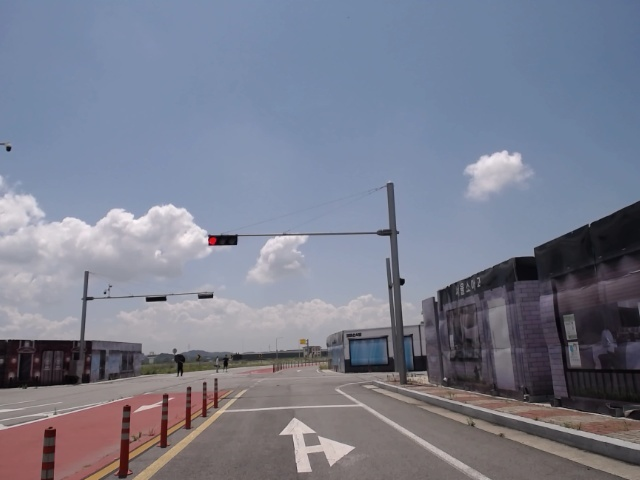red_3: (208, 234, 238, 246)
